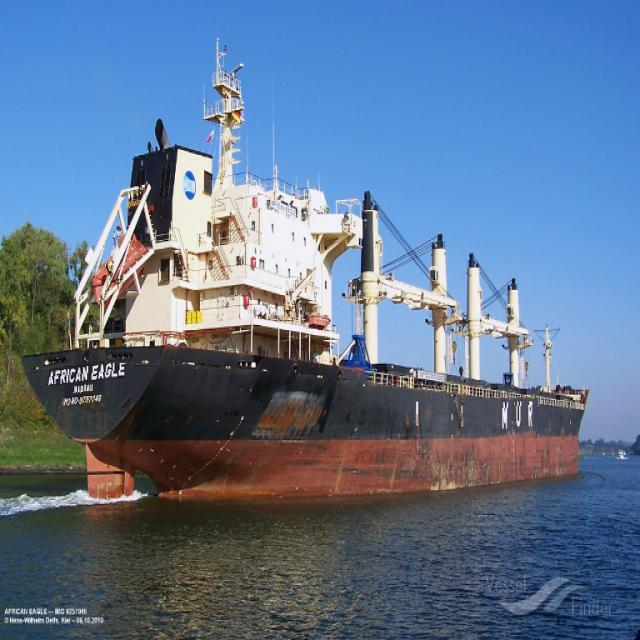OCR: (47, 363, 135, 415), (487, 396, 538, 442)
